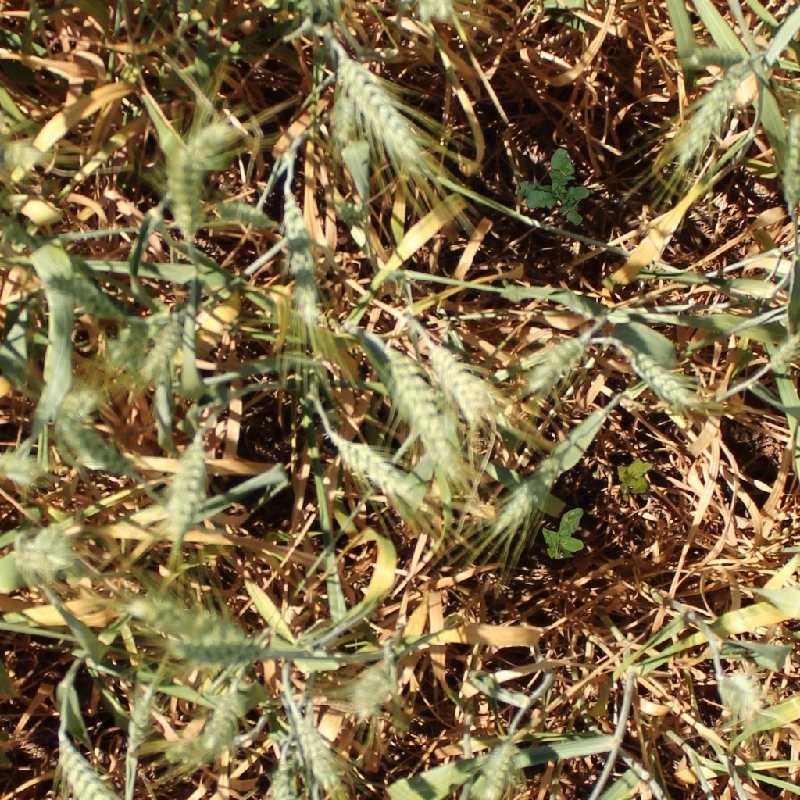spikelet: (384, 350, 464, 478), (334, 56, 425, 167), (671, 58, 753, 165), (274, 201, 325, 329), (493, 455, 562, 530), (426, 341, 491, 420), (327, 431, 407, 495), (289, 714, 349, 799), (162, 436, 211, 536), (53, 738, 131, 799), (125, 592, 222, 640), (55, 417, 131, 477), (162, 130, 203, 240), (42, 267, 122, 320), (628, 348, 694, 408), (168, 628, 261, 669), (524, 334, 589, 392), (13, 523, 76, 582), (139, 311, 186, 383), (468, 740, 525, 799), (198, 685, 248, 752), (178, 118, 238, 172), (124, 680, 156, 768), (776, 103, 799, 218), (348, 663, 395, 719), (715, 668, 763, 720), (104, 321, 150, 371), (1, 445, 47, 490), (54, 382, 102, 423), (1, 138, 40, 185), (382, 1, 458, 24), (262, 757, 302, 800), (766, 329, 799, 375), (1, 215, 34, 255), (333, 196, 370, 228)
weed: (517, 148, 594, 226), (604, 447, 663, 509), (542, 508, 584, 559)
